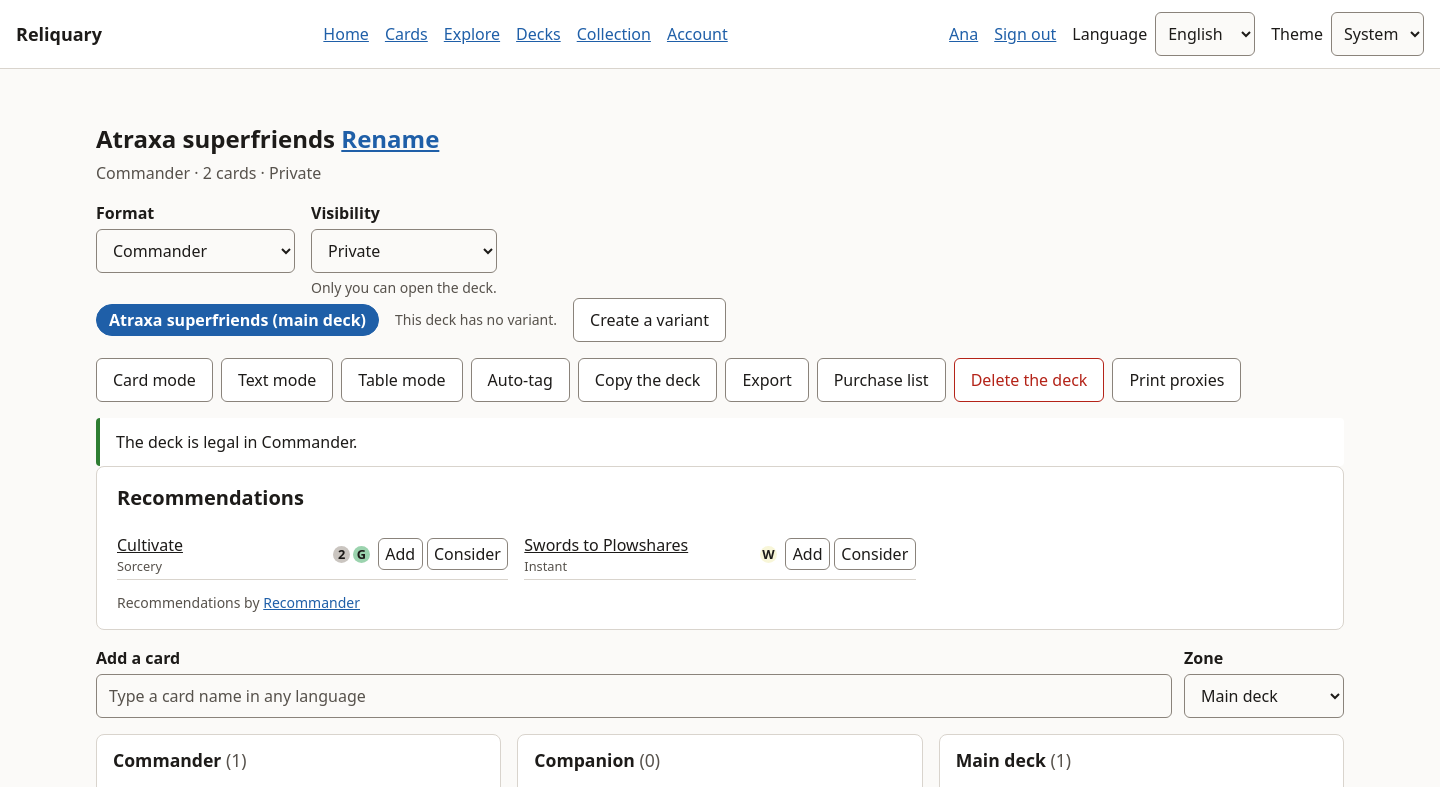
recommendations panel › adds a card to the main deck or to the considering zone in one action, then hides it
Click the button with aria-label "Add Cultivate to the main deck".
click(400, 554)  # box [378, 538, 423, 570]
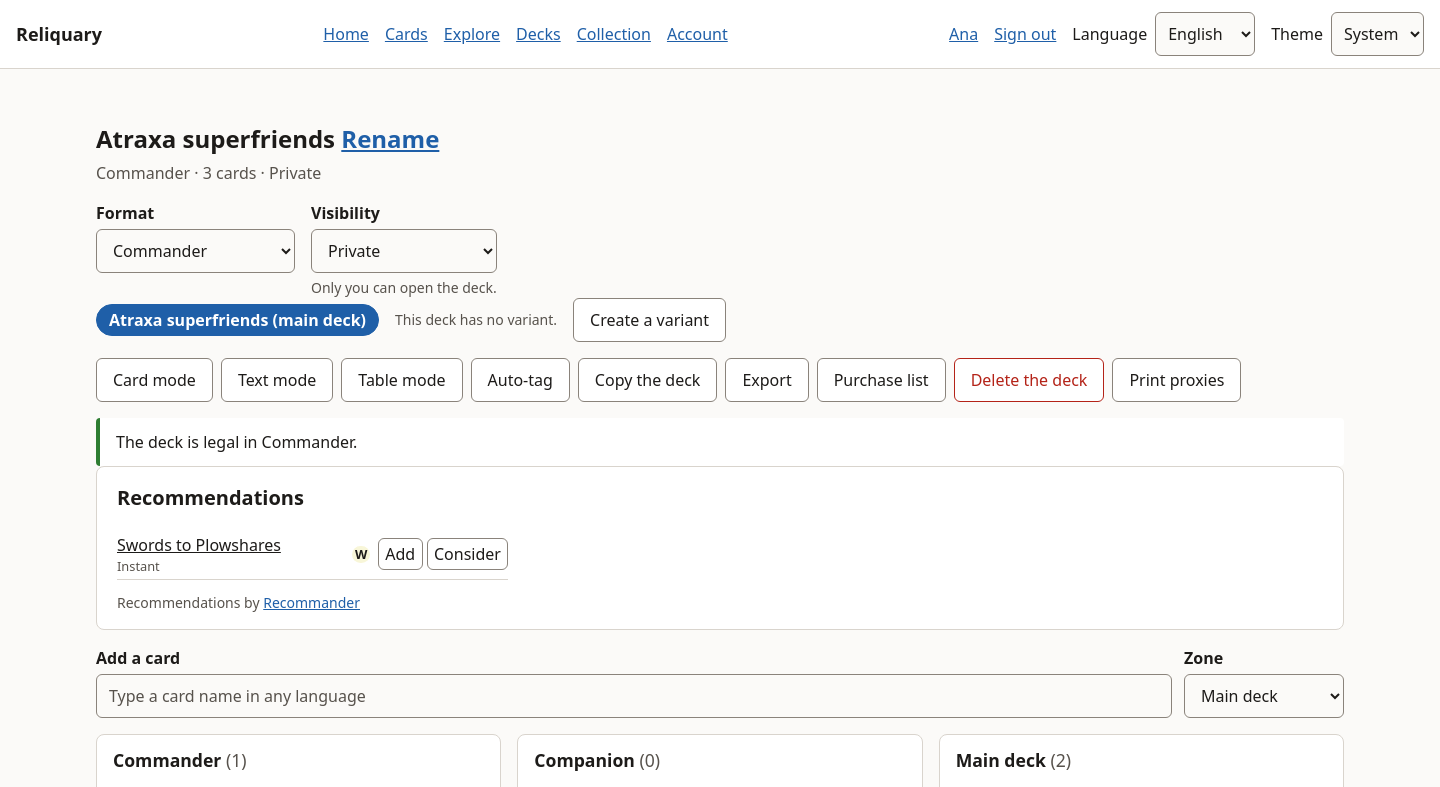
Expected: the link "Cultivate" is gone
Click the button with aria-label "Add Swords to Plowshares to the considering zone".
click(467, 554)  # box [427, 538, 508, 570]
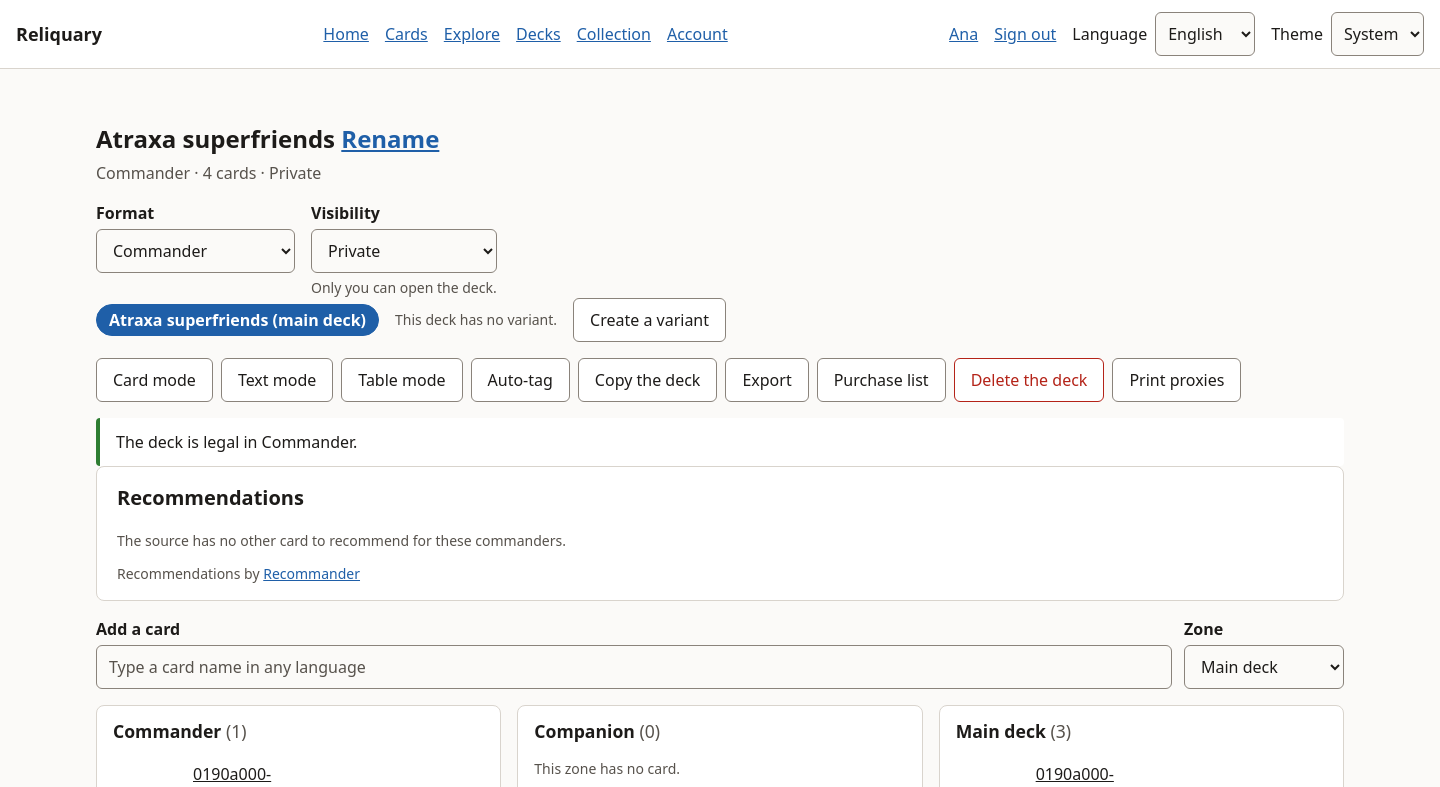
Expected: the link "Swords to Plowshares" is gone
Expected: the text "The source has no other card to recommend for these commanders." is shown, [117, 530, 566, 550]
